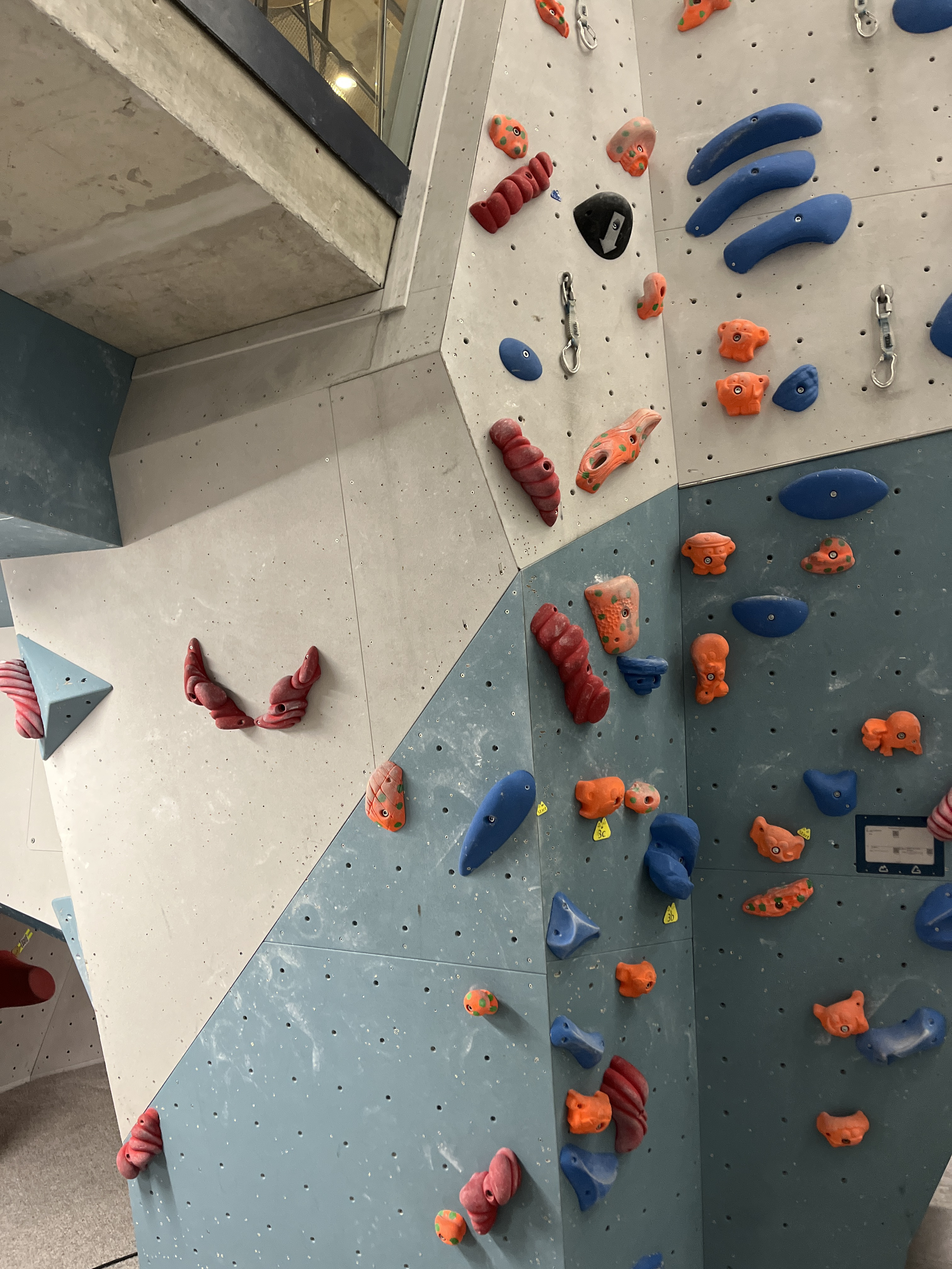hold: (685, 150, 815, 236), (688, 103, 817, 184), (723, 194, 851, 272), (530, 604, 610, 723), (458, 771, 533, 874), (490, 420, 557, 523), (575, 408, 656, 489), (470, 155, 549, 229), (184, 640, 252, 725), (779, 467, 887, 517), (462, 1149, 519, 1233), (600, 1056, 648, 1153), (264, 648, 321, 727), (859, 1007, 942, 1060), (646, 815, 696, 898), (585, 575, 638, 652), (575, 192, 632, 257), (559, 1148, 617, 1209), (547, 892, 599, 956), (732, 594, 807, 636), (119, 1106, 160, 1178), (2, 660, 41, 735), (2, 949, 54, 1005), (365, 761, 402, 830), (551, 1015, 600, 1067), (743, 880, 813, 916), (692, 634, 728, 702), (607, 119, 652, 172), (751, 816, 805, 860), (862, 711, 920, 751), (805, 769, 855, 815), (682, 531, 734, 575), (815, 991, 866, 1035), (916, 882, 950, 948), (716, 372, 768, 414), (718, 319, 768, 361), (575, 777, 624, 816), (774, 364, 815, 410), (817, 1110, 869, 1146), (489, 114, 528, 159), (567, 1091, 609, 1132), (803, 539, 853, 573), (617, 658, 664, 694), (892, 2, 950, 29), (502, 339, 539, 378), (680, 0, 728, 29), (617, 962, 654, 995), (930, 293, 950, 354), (636, 274, 664, 315), (435, 1210, 466, 1246), (928, 789, 950, 838), (536, 2, 567, 36), (624, 781, 656, 813), (466, 989, 498, 1013), (632, 1253, 662, 1266)
volume: (15, 634, 115, 763)
